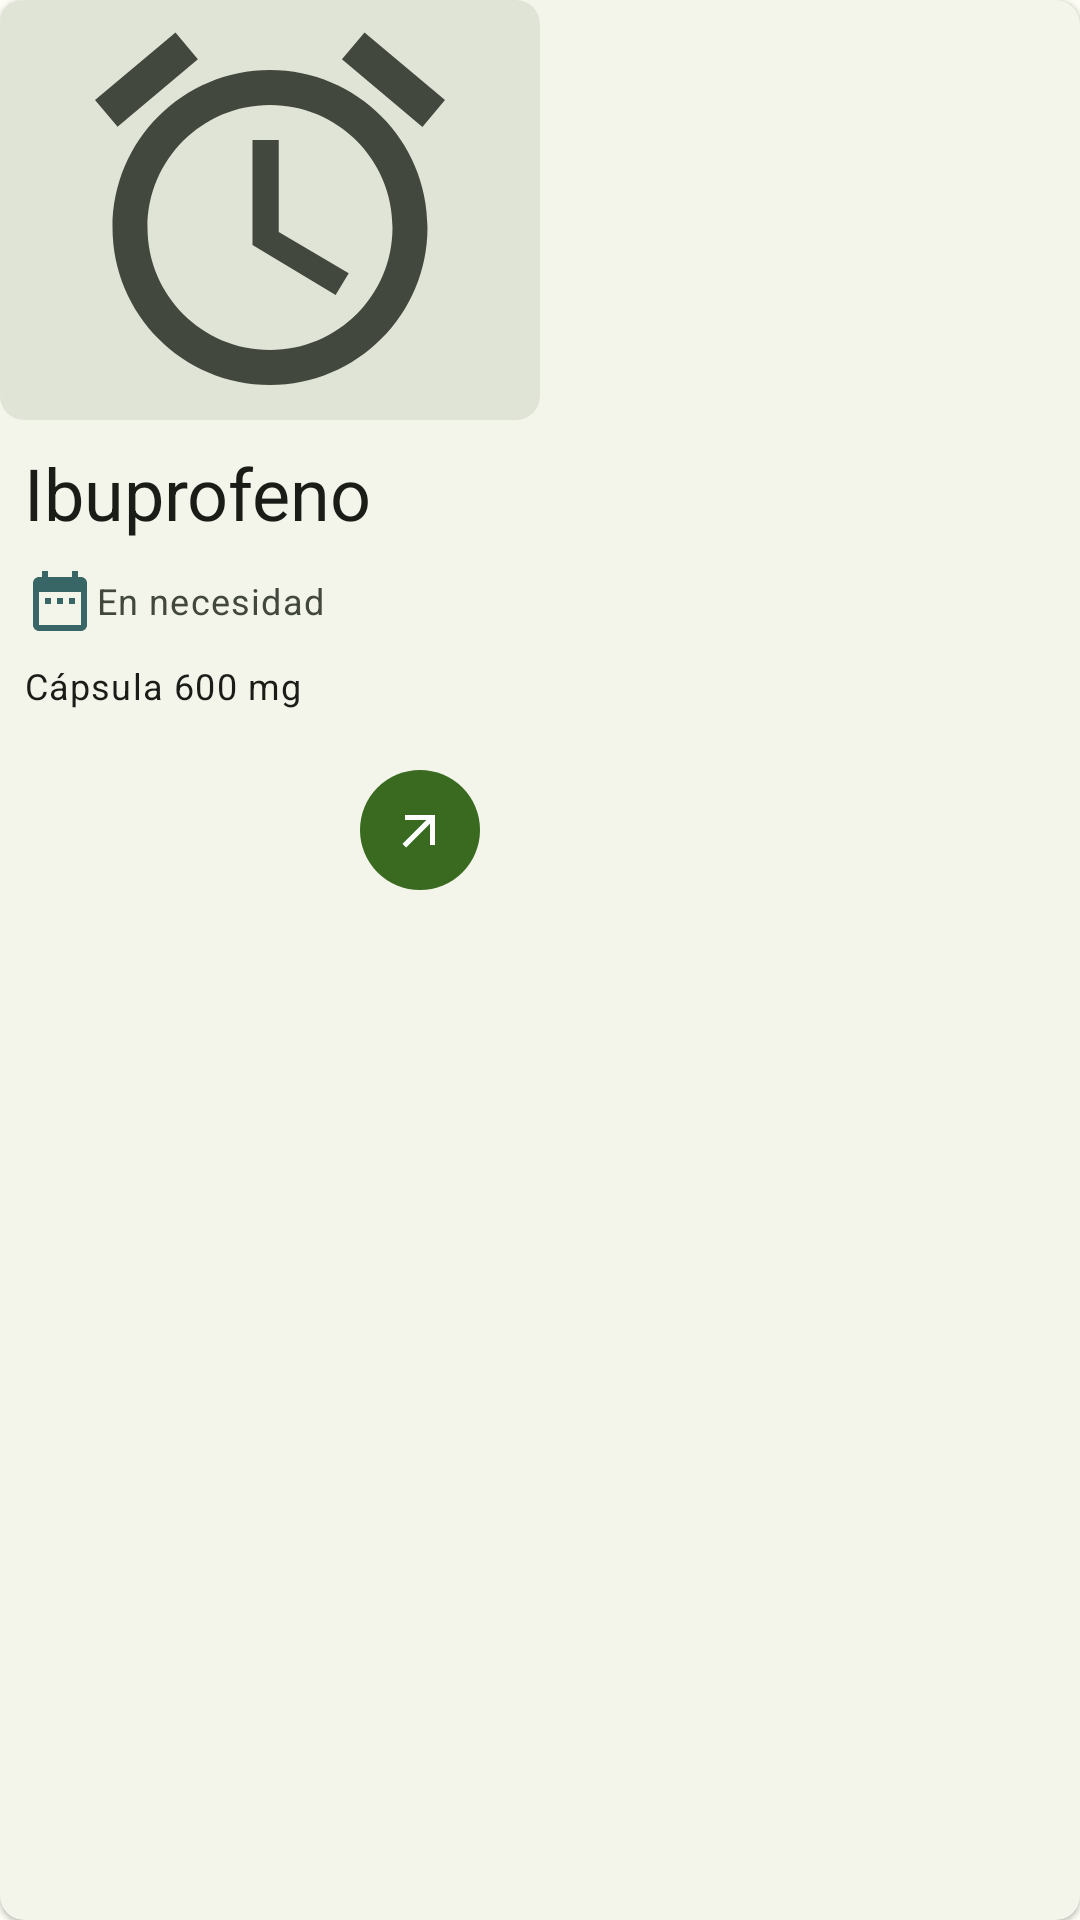

Where icons sit on this 1080 × 1920 app screen, as (x1,y1,x2,y2):
more: (360,770,480,890)
